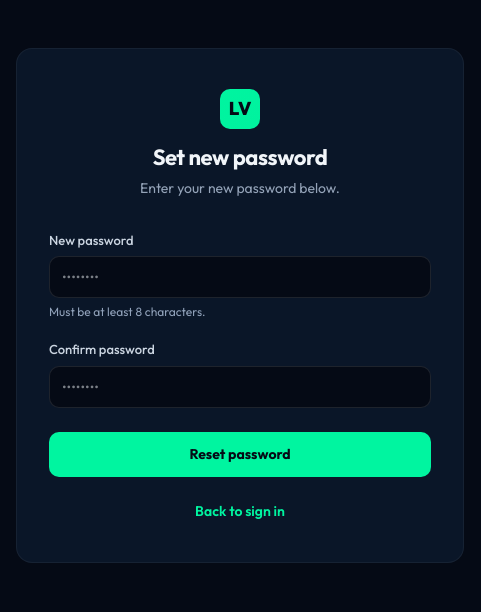
Test: C1: Reset password — full password policy › shows server error when reset-password route returns error
Type "SecureP@ss9" into the password field labelled "New password".
click(240, 277); type("SecureP@ss9")  # box [49,256,431,298]
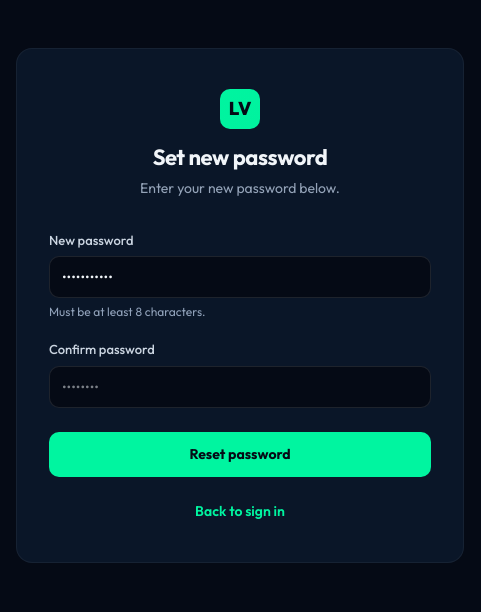
Type "SecureP@ss9" into the password field labelled "Confirm password".
click(240, 386); type("SecureP@ss9")  # box [49,366,431,408]
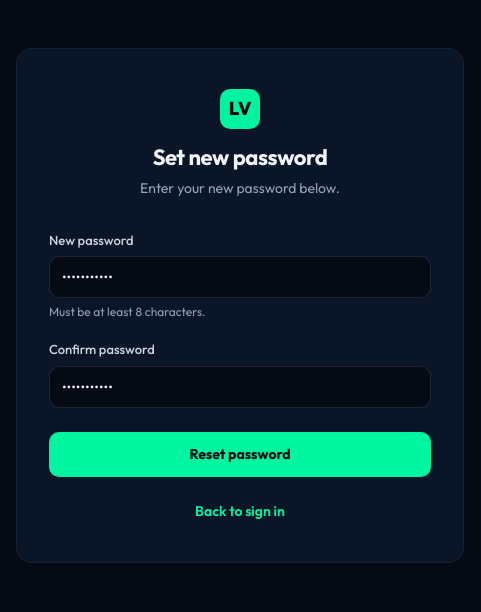
Submit the form from the button "Reset password", box [49,432,431,476]
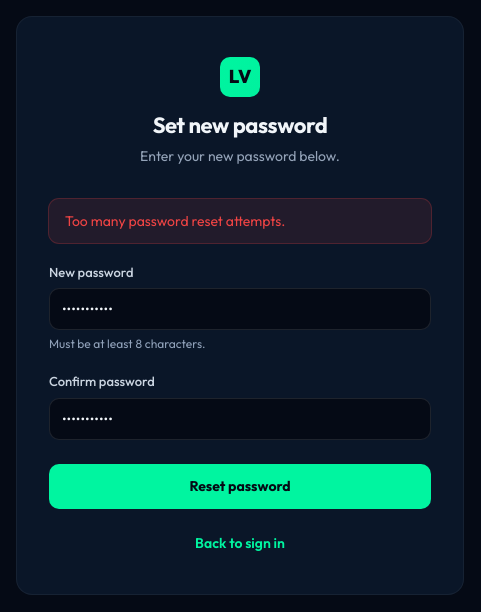
Expected: the message shows "Too many password reset attempts", [65,212,285,230]
